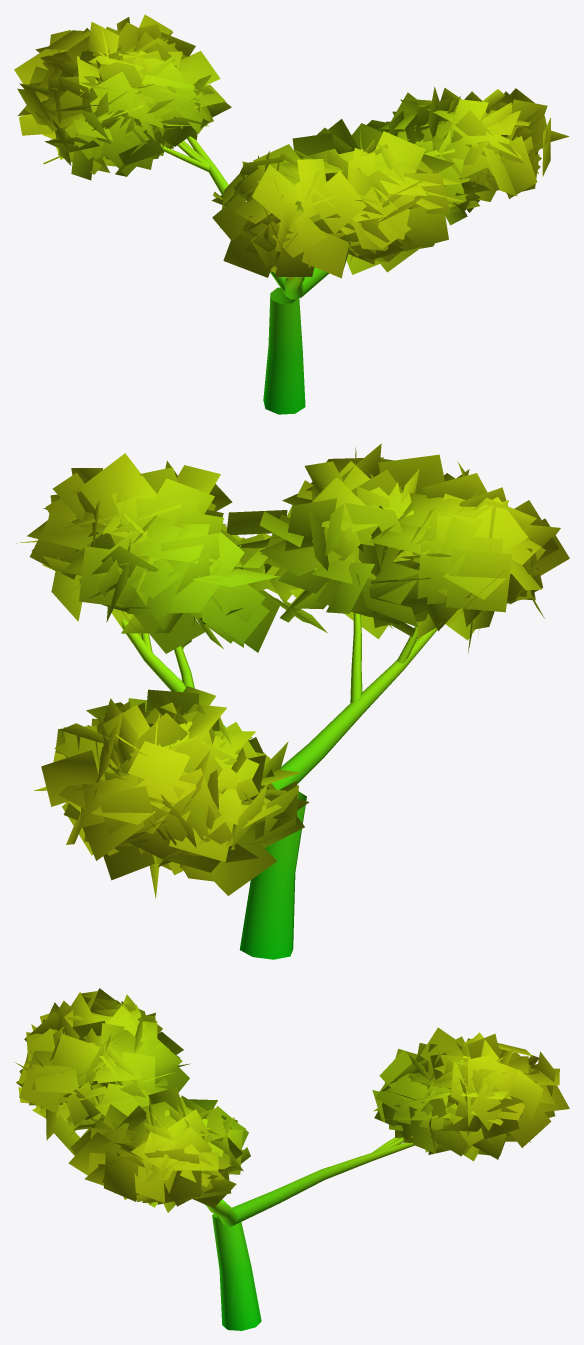
File: sakura_b.glb
The picture shows the model from 3 angles, top to bottom: view 1: azimuth 30°, elevation 25°; view 2: azimuth 150°, elevation 25°; view 3: azimuth 270°, elevation 25°; orthographic projection. The views are drawn at different scales.
Parts seen in each view (by area): view 1: sakura_b; view 2: sakura_b; view 3: sakura_b.
Boxes of the visible parts, x1,y1,x2,y2 form: sakura_b: [14, 14, 569, 414]; sakura_b: [16, 443, 569, 959]; sakura_b: [15, 988, 569, 1330].
Size of the model in its own units: 6.21 by 5.33 by 8.96.
